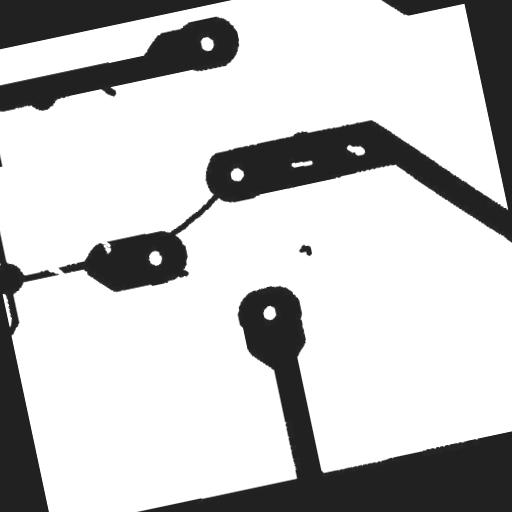copper: (289, 234, 321, 266)
mousebite: (90, 230, 120, 262)
open: (38, 255, 75, 289)
pin-hole: (336, 132, 374, 166), (281, 149, 321, 177)
short: (154, 184, 232, 246)
spur: (90, 72, 124, 107), (161, 256, 197, 288)
